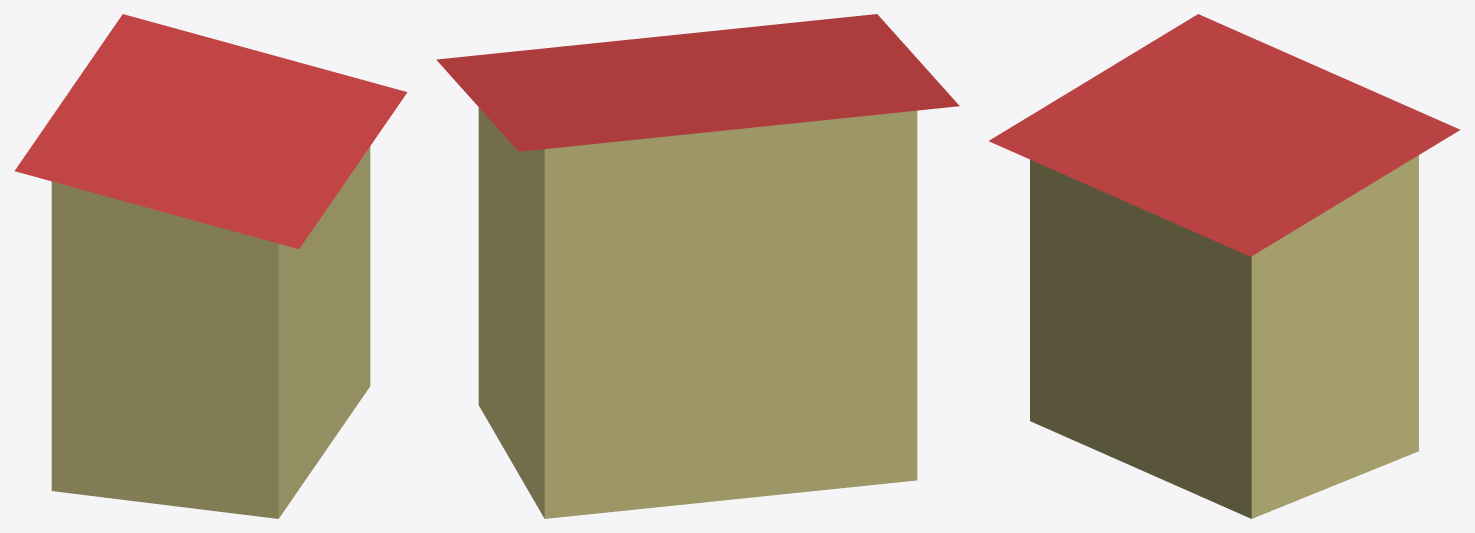
3 views of the same model, side by side, from view 1: azimuth 30°, elevation 25°; view 2: azimuth 150°, elevation 25°; view 3: azimuth 270°, elevation 25° (orthographic). The views are drawn at different scales.
Size of the model in its own units: 8.07 by 8.02 by 6.03.
